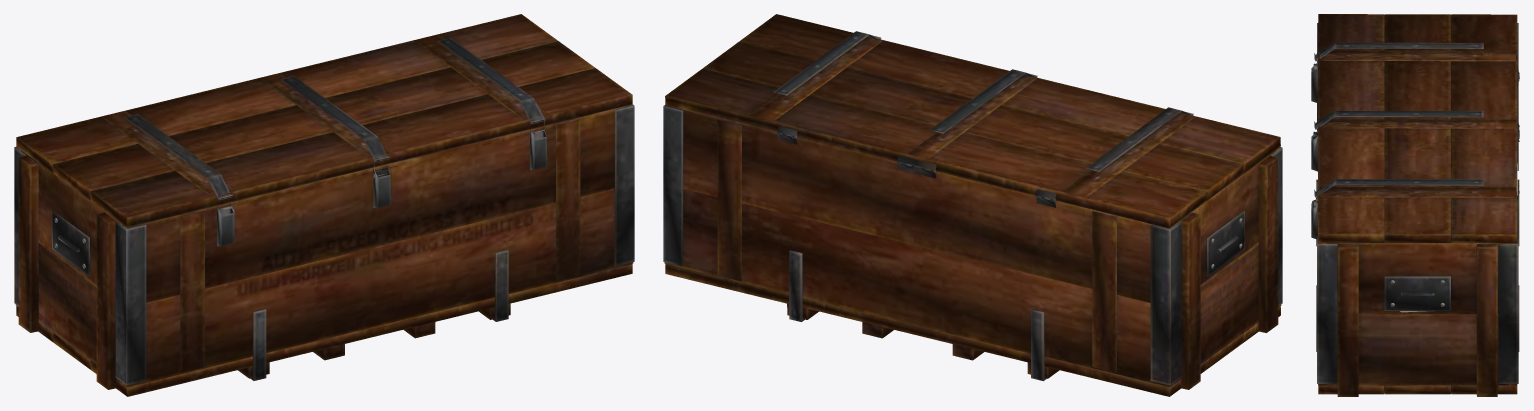
File: crate.glb
3 renders of one model, left to right at view 1: azimuth 30°, elevation 25°; view 2: azimuth 150°, elevation 25°; view 3: azimuth 270°, elevation 25°, orthographic. The views are drawn at different scales.
Visible parts, largest first — view 1: wooden_military_crate; view 2: wooden_military_crate; view 3: wooden_military_crate.
Boxes of the visible parts, bbox=[...] form: wooden_military_crate: bbox=[14, 14, 634, 396]; wooden_military_crate: bbox=[663, 14, 1282, 396]; wooden_military_crate: bbox=[1311, 14, 1519, 396].
Bounding box in the file's own units: 1.24 × 0.4639 × 0.4801.
1 material, 1 textured.
